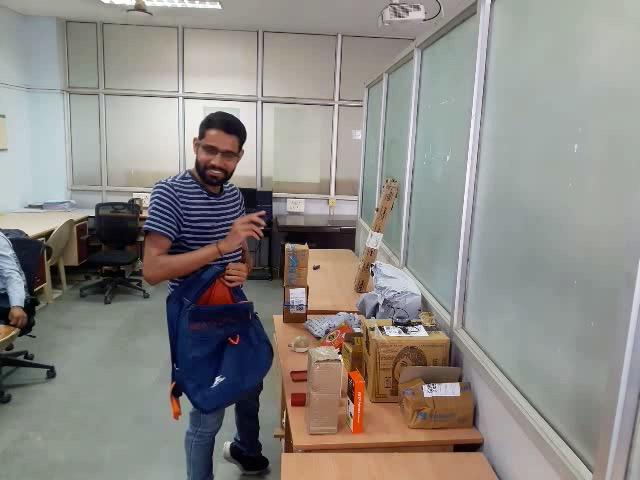shoplifting: (109, 197, 309, 420)
